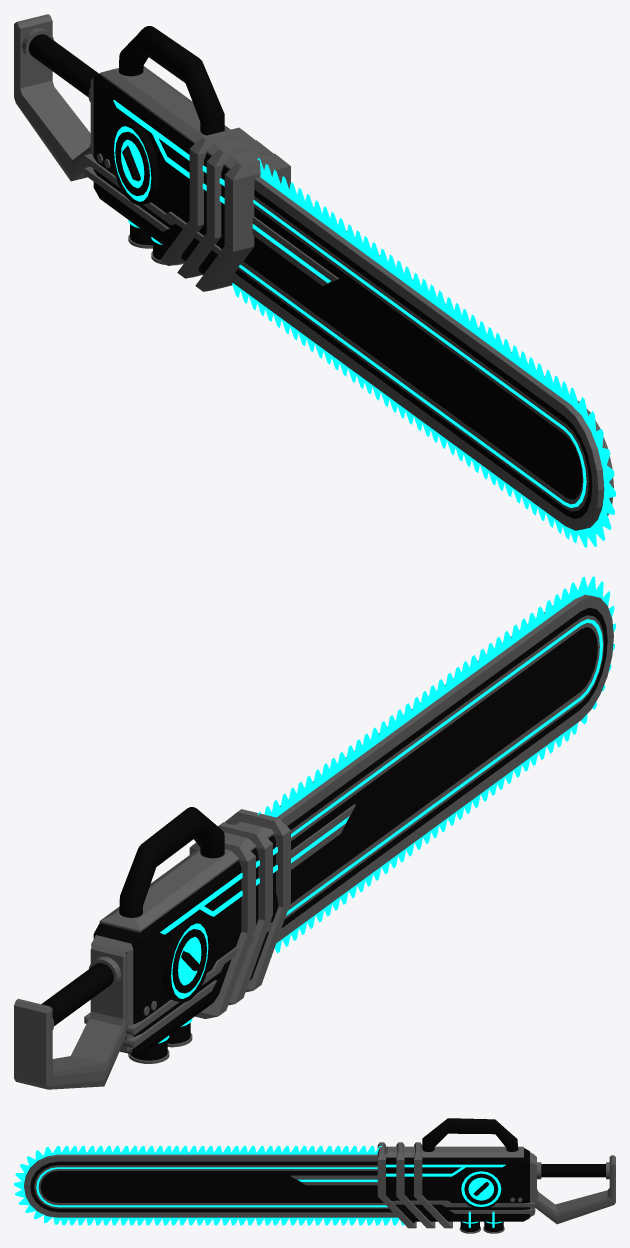
File: Chainsaw.fbx
3 renders of one model, top to bottom at view 1: azimuth 30°, elevation 25°; view 2: azimuth 150°, elevation 25°; view 3: azimuth 270°, elevation 25°, orthographic. The views are drawn at different scales.
Visible parts, largest first — view 1: Chainsaw, blade1, blade3, blade2; view 2: Chainsaw, blade1, blade3, blade2; view 3: Chainsaw, blade3, blade1, blade2.
Boxes of the visible parts, box(x1,y1,x2,y2) form: Chainsaw: box(14, 14, 613, 530); blade1: box(257, 158, 569, 401); blade3: box(232, 283, 570, 539); blade2: box(568, 387, 615, 547); Chainsaw: box(14, 594, 613, 1089); blade1: box(257, 588, 571, 817); blade3: box(271, 727, 571, 957); blade2: box(569, 576, 615, 734); Chainsaw: box(24, 1118, 615, 1233); blade3: box(60, 1217, 404, 1225); blade1: box(61, 1146, 381, 1154); blade2: box(14, 1146, 61, 1224).
Bounding box in the file's own units: 7.53 × 23.73 × 117.
